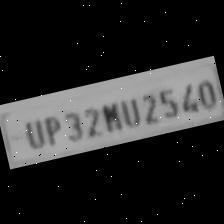0: (192, 74, 218, 111)
2: (77, 100, 104, 140), (135, 88, 161, 127)
3: (58, 105, 86, 144)
4: (174, 78, 200, 116)
5: (152, 82, 180, 122)
M: (96, 97, 124, 134)
P: (38, 110, 64, 148)
U: (17, 114, 46, 151), (117, 92, 143, 130)
